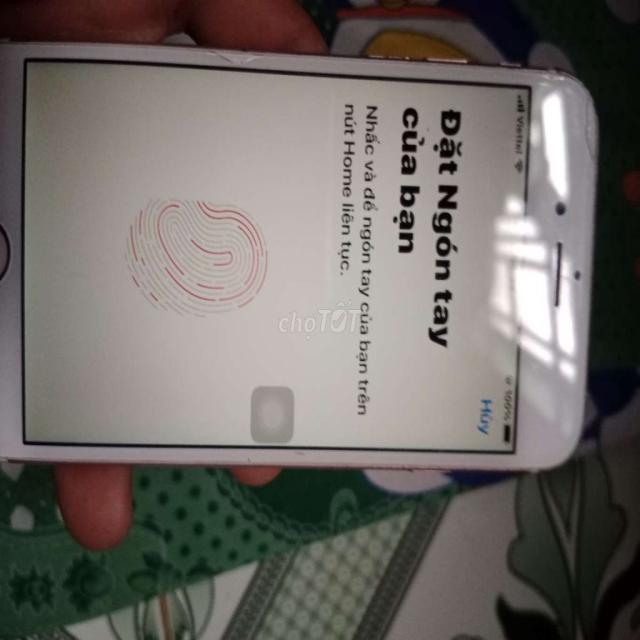scratch: (192, 30, 306, 94), (580, 75, 608, 186)
